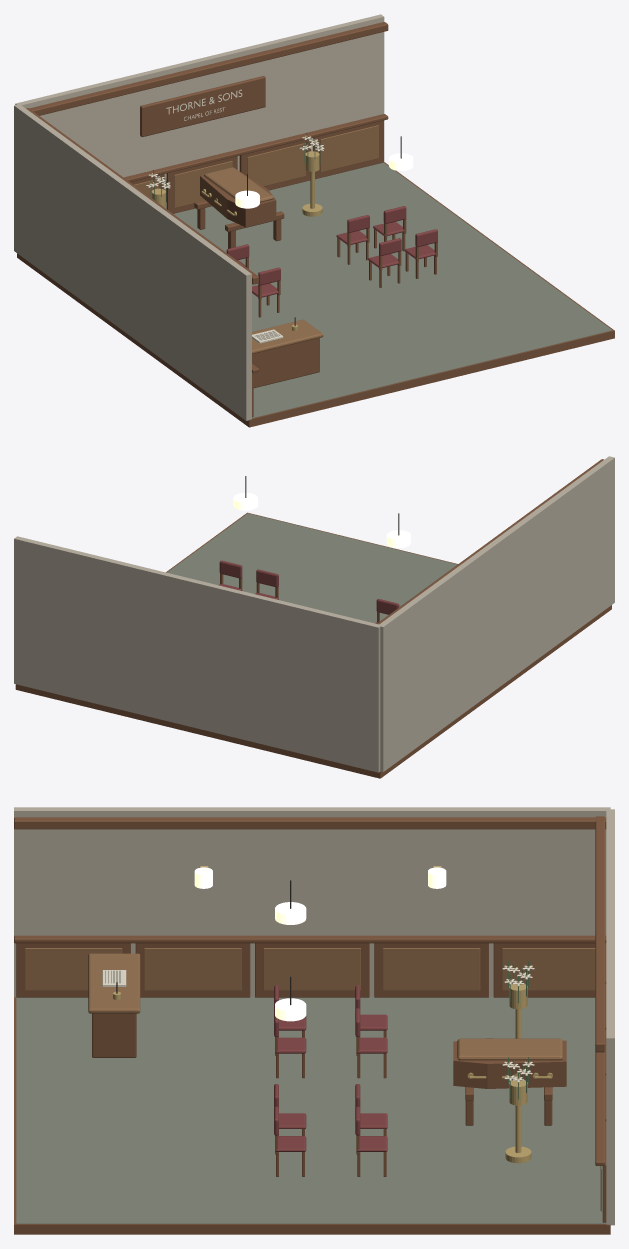
File: interior-chapel.glb
3 views of the same model, one above another, from view 1: azimuth 30°, elevation 25°; view 2: azimuth 150°, elevation 25°; view 3: azimuth 270°, elevation 25° (orthographic). The views are drawn at different scales.
Visible parts, largest first — view 1: fitted carpet, left plaster, back plaster, back wainscot, chapel foundation, back panel inset, visitor cushion, casket lid, handle mount, side wainscot, pendant shade, appointments ledger; view 2: back plaster, left plaster, fitted carpet, chapel foundation, visitor cushion, pendant shade, side wainscot; view 3: fitted carpet, left plaster, side wainscot, side panel inset, chapel foundation, casket lid, visitor cushion, back wainscot, back plaster, handle mount, pendant shade, appointments ledger (+1 smaller).
Boxes of the visible parts, x1,y1,x2,y2 form: fitted carpet: (174, 162, 612, 418); left plaster: (14, 104, 251, 420); back plaster: (15, 14, 384, 208); back wainscot: (27, 22, 388, 213); chapel foundation: (17, 162, 614, 427); back panel inset: (134, 125, 378, 208); visitor cushion: (226, 206, 437, 297); casket lid: (204, 167, 323, 354); handle mount: (150, 136, 322, 330); side wainscot: (26, 108, 258, 417); pendant shade: (235, 153, 413, 208); appointments ledger: (146, 135, 324, 343); back plaster: (14, 536, 381, 772); left plaster: (379, 456, 614, 771); fitted carpet: (167, 513, 457, 623); chapel foundation: (15, 512, 611, 778); visitor cushion: (218, 560, 399, 623); pendant shade: (233, 492, 410, 547); side wainscot: (377, 459, 603, 624); fitted carpet: (16, 997, 606, 1223); left plaster: (14, 807, 610, 997); side wainscot: (14, 817, 606, 997); side panel inset: (25, 948, 595, 990); chapel foundation: (14, 997, 610, 1234); casket lid: (88, 953, 563, 1060); visitor cushion: (274, 985, 387, 1151); back wainscot: (595, 816, 606, 1222); back plaster: (606, 809, 614, 1225); handle mount: (113, 966, 552, 1163); pendant shade: (275, 902, 306, 1021); appointments ledger: (102, 965, 534, 1082).
Bounding box in the file's own units: 10.08 × 3.99 × 11.08.
